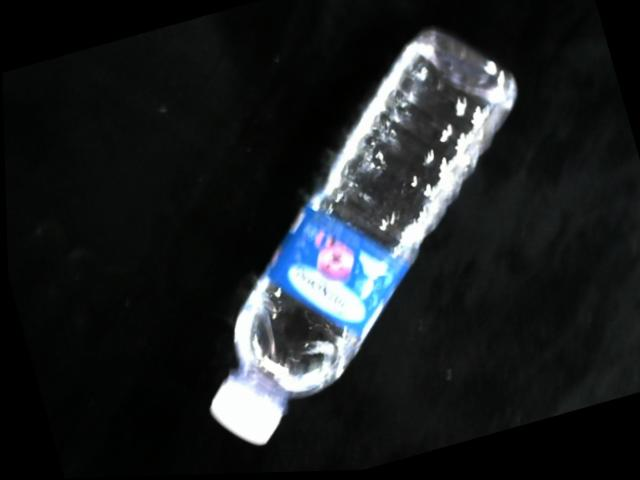bottle: (205, 28, 520, 451)
